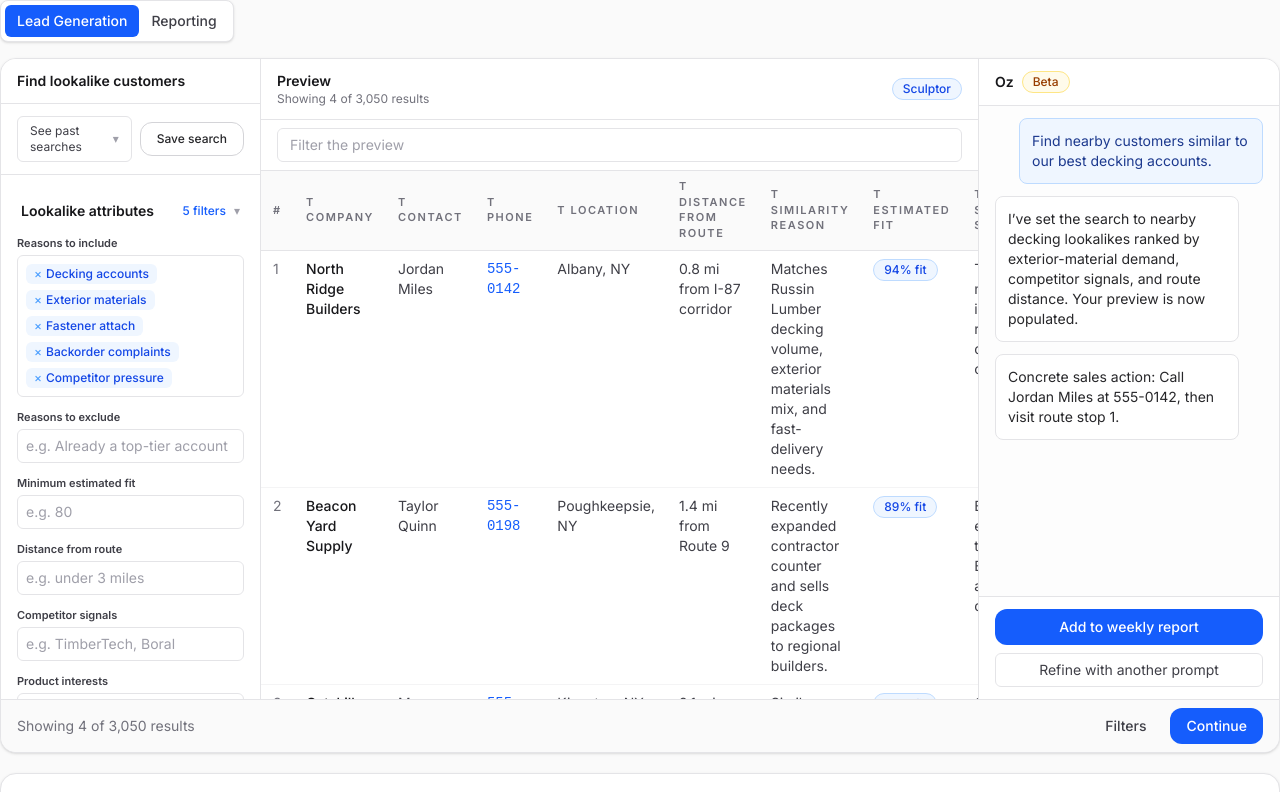
Test: LeadGenerationScreen › moves the insight into the report flow
Click the button "Add to weekly report". click: [1129, 627]
box: [995,609,1263,645]
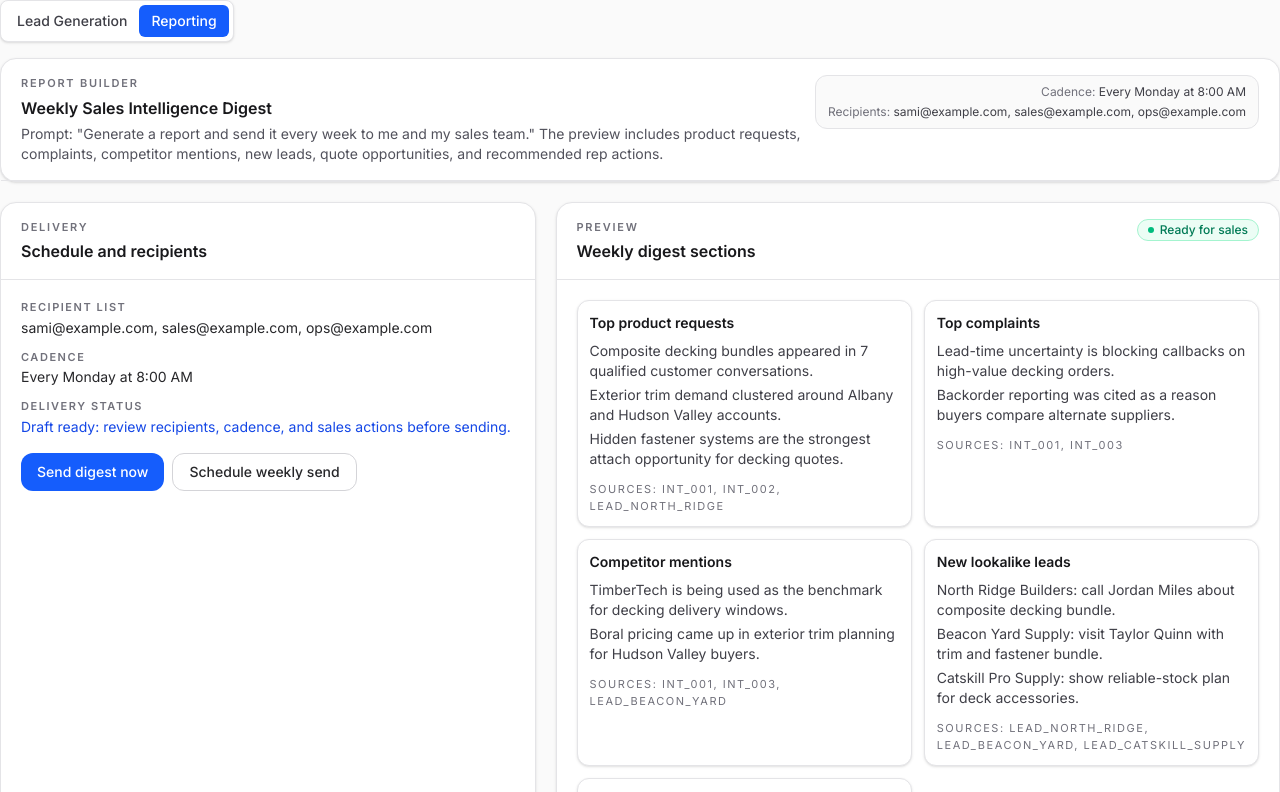
Expected: the heading "Weekly Sales Intelligence Digest" is shown, [21,98,272,118]
Expected: the list item "North Ridge Builders: call Jordan Miles" is shown, [937,581,1235,618]
